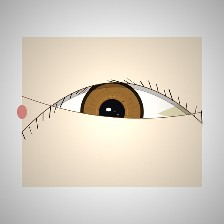pterygium_lesion: (153, 92, 202, 132)
